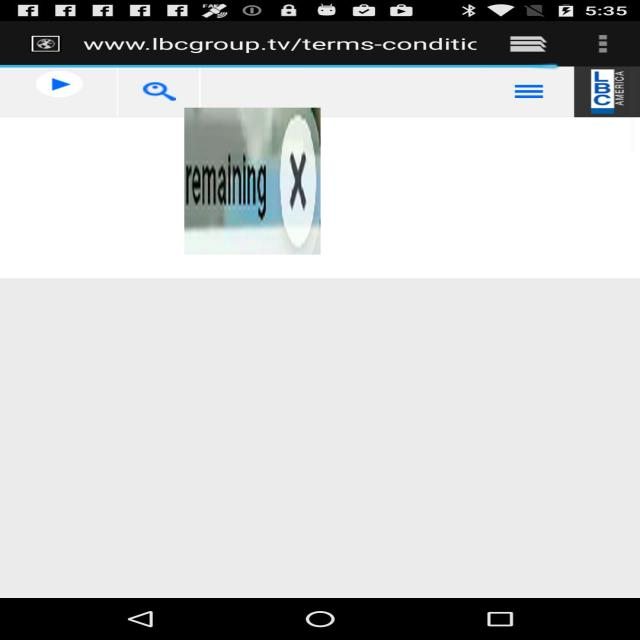misdirection: (184, 108, 321, 255)
